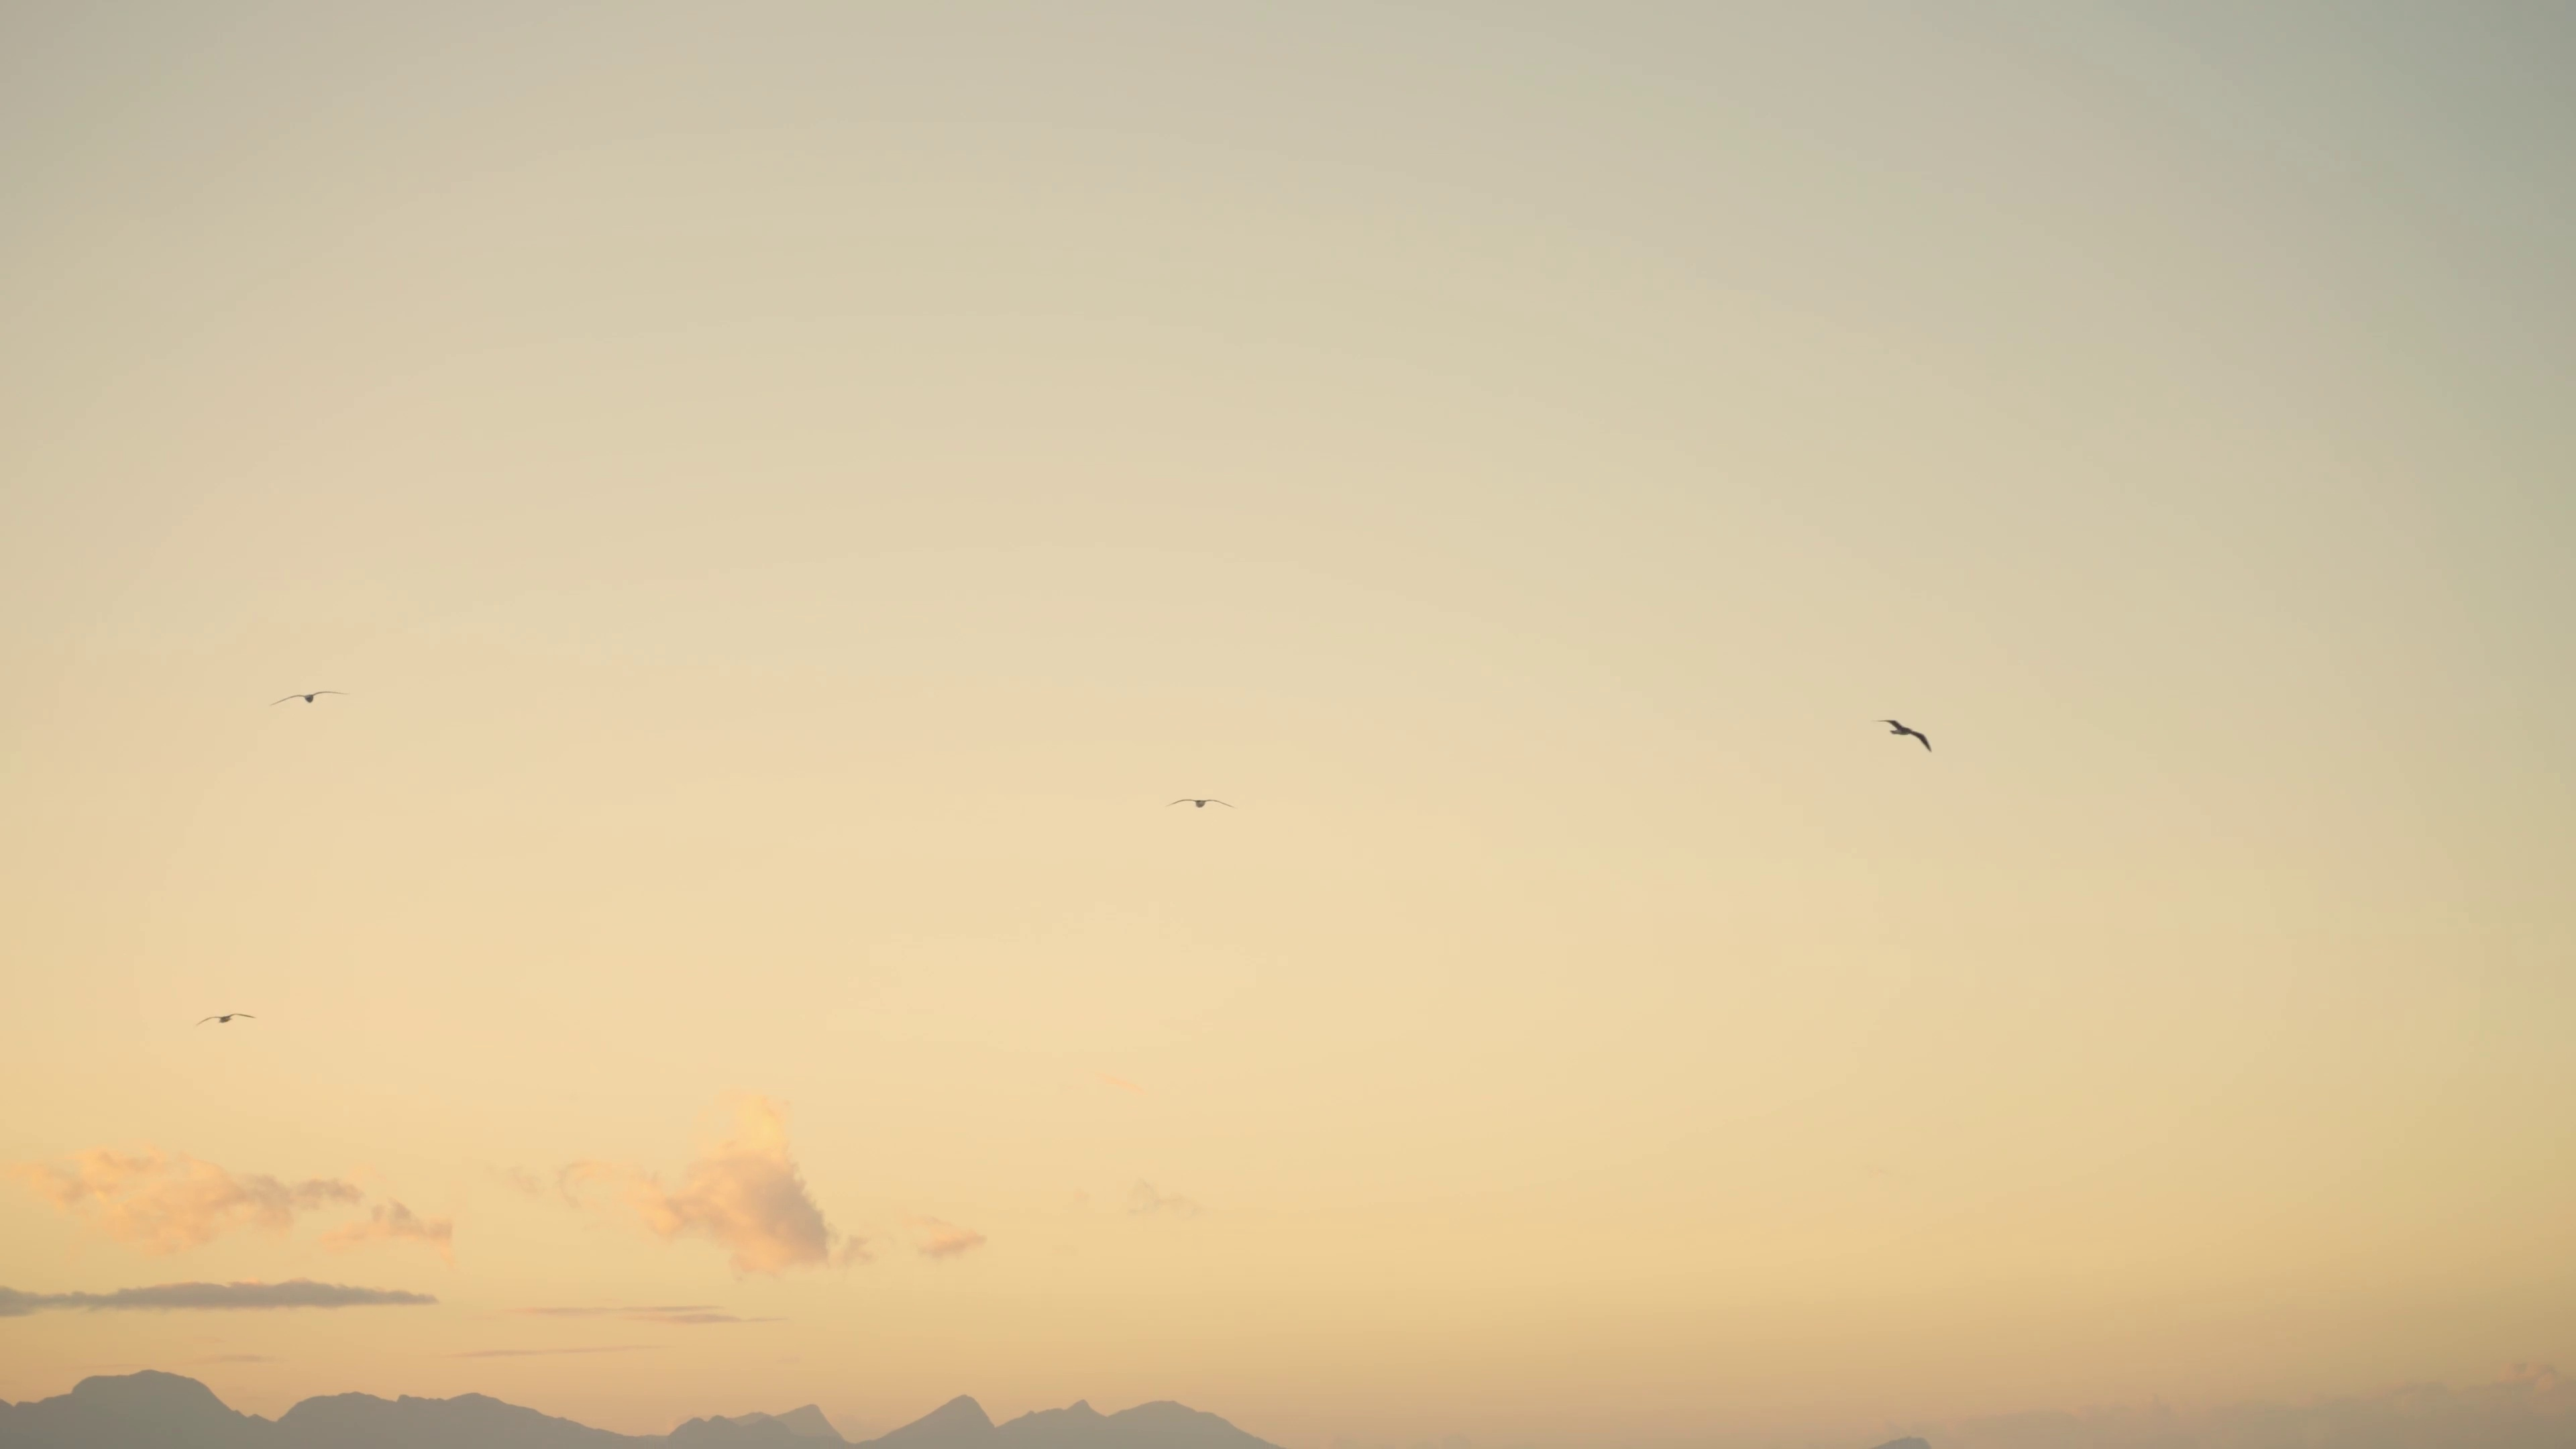bird: (1879, 718, 1934, 752), (271, 690, 350, 708), (195, 1014, 255, 1028), (1169, 796, 1233, 809)
